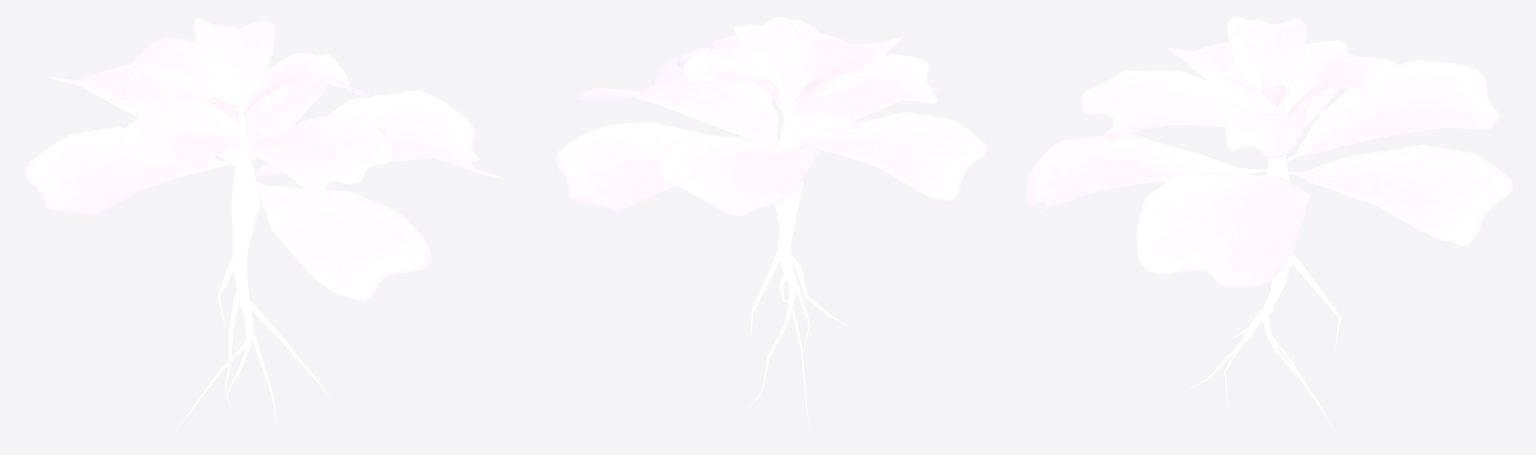
The picture shows the model from 3 angles, left to right: view 1: azimuth 30°, elevation 25°; view 2: azimuth 150°, elevation 25°; view 3: azimuth 270°, elevation 25°; orthographic projection. The views are drawn at different scales.
Parts seen in each view (by area): view 1: SM_Water_Lettuce_01_LOD0; view 2: SM_Water_Lettuce_01_LOD0; view 3: SM_Water_Lettuce_01_LOD0.
Boxes of the visible parts, left/top/right/bottom form: SM_Water_Lettuce_01_LOD0: left=25, top=18, right=505, bottom=436; SM_Water_Lettuce_01_LOD0: left=556, top=17, right=986, bottom=437; SM_Water_Lettuce_01_LOD0: left=1026, top=17, right=1512, bottom=436.
Size of the model in its own units: 0.6977 by 0.6037 by 0.7065.
Materials: 1 (1 with a texture image).
